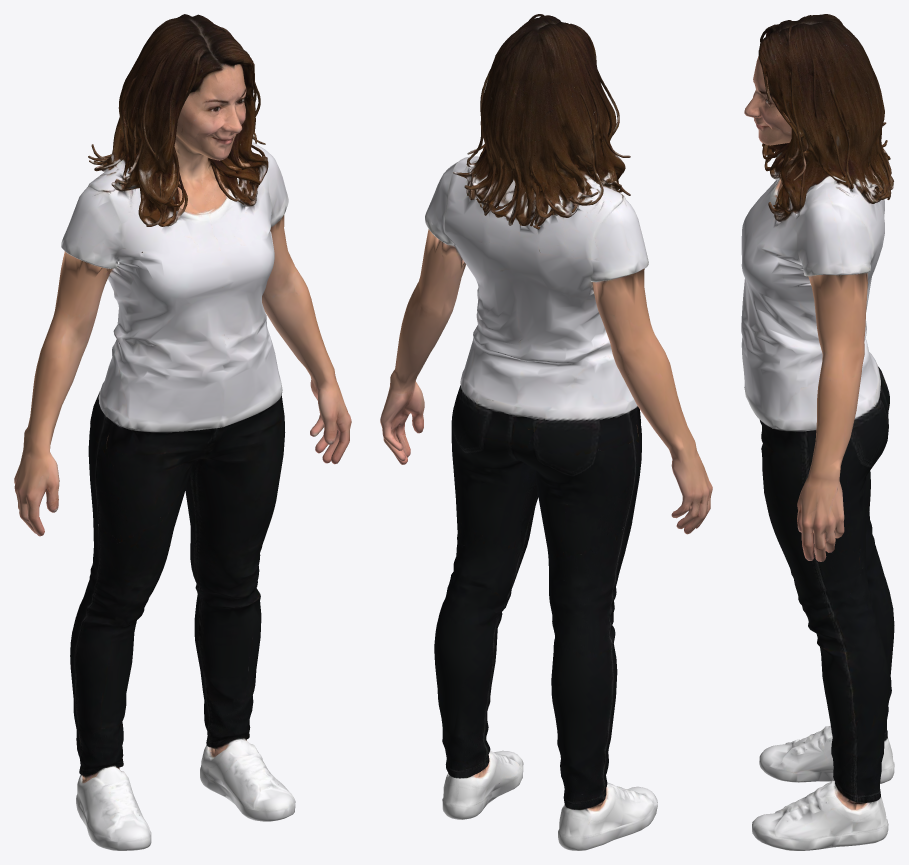
The model's file is tee-woman.glb.
3 views of the same model, side by side, from view 1: azimuth 30°, elevation 25°; view 2: azimuth 150°, elevation 25°; view 3: azimuth 270°, elevation 25° (orthographic).
Size of the model in its own units: 0.4325 by 0.9999 by 0.1753.
Materials: 1 (1 with a texture image).
